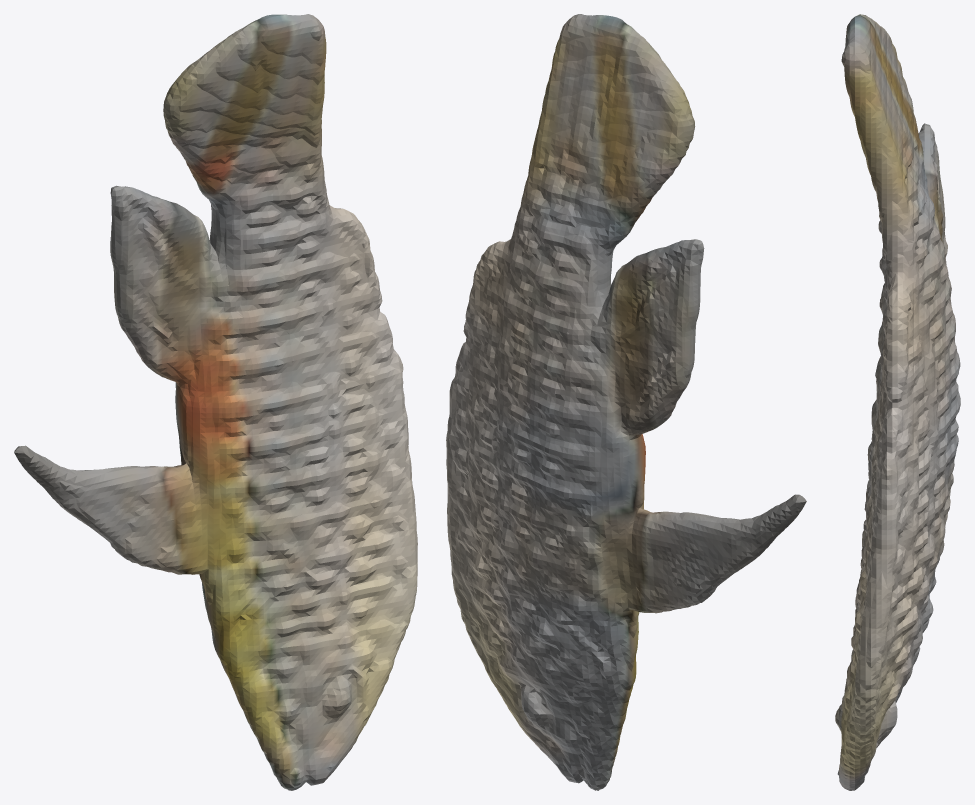
The model's file is apistogramma-hongsloi.glb.
The picture shows the model from 3 angles, left to right: view 1: azimuth 30°, elevation 25°; view 2: azimuth 150°, elevation 25°; view 3: azimuth 270°, elevation 25°; orthographic projection. The views are drawn at different scales.
Visible parts, largest first — view 1: world; view 2: world; view 3: world.
Boxes of the visible parts, bbox=[...] form: world: bbox=[14, 14, 417, 790]; world: bbox=[446, 14, 806, 790]; world: bbox=[835, 14, 960, 790].
Size of the model in its own units: 0.54 by 1.06 by 0.1599.
